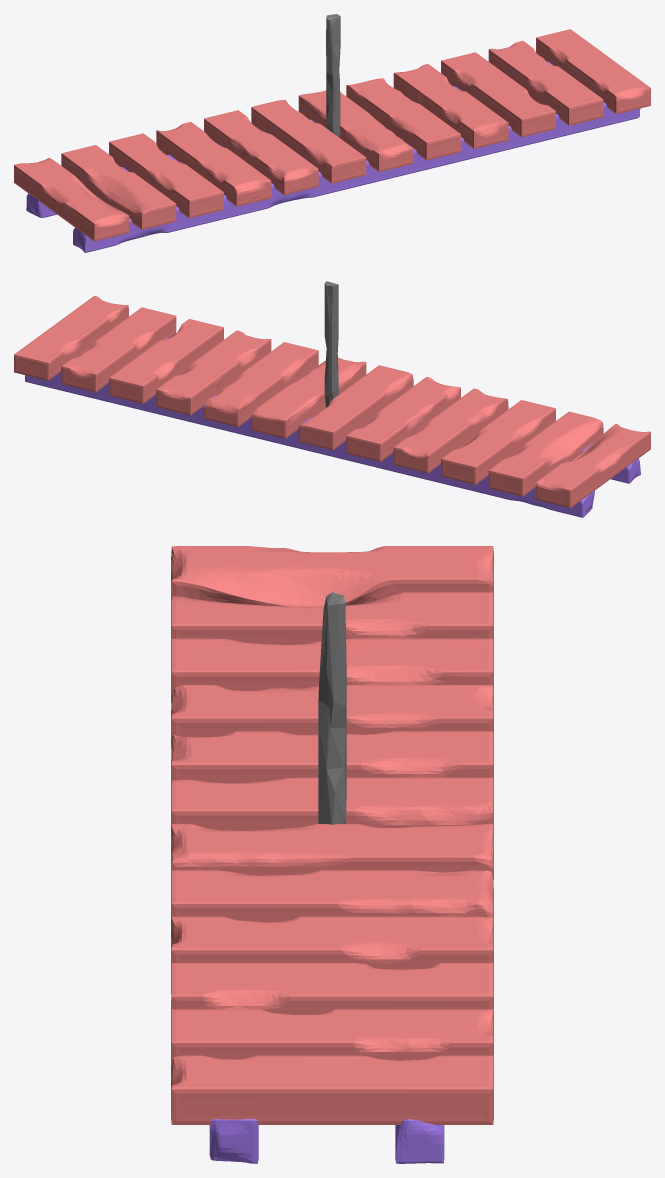
File: pier.fbx
3 views of the same model, one above another, from view 1: azimuth 30°, elevation 25°; view 2: azimuth 150°, elevation 25°; view 3: azimuth 270°, elevation 25° (orthographic). The views are drawn at different scales.
Parts seen in each view (by area): view 1: PierPlanks, Pillar; view 2: PierPlanks, Pillar; view 3: PierPlanks, Pillar.
Part boxes in pixels (bbox=[...]): PierPlanks: bbox=[14, 29, 650, 252]; Pillar: bbox=[326, 14, 340, 137]; PierPlanks: bbox=[14, 296, 650, 517]; Pillar: bbox=[324, 281, 338, 407]; PierPlanks: bbox=[171, 546, 493, 1163]; Pillar: bbox=[318, 592, 346, 824].
Bounding box in the file's own units: 1601 × 402 × 401.
